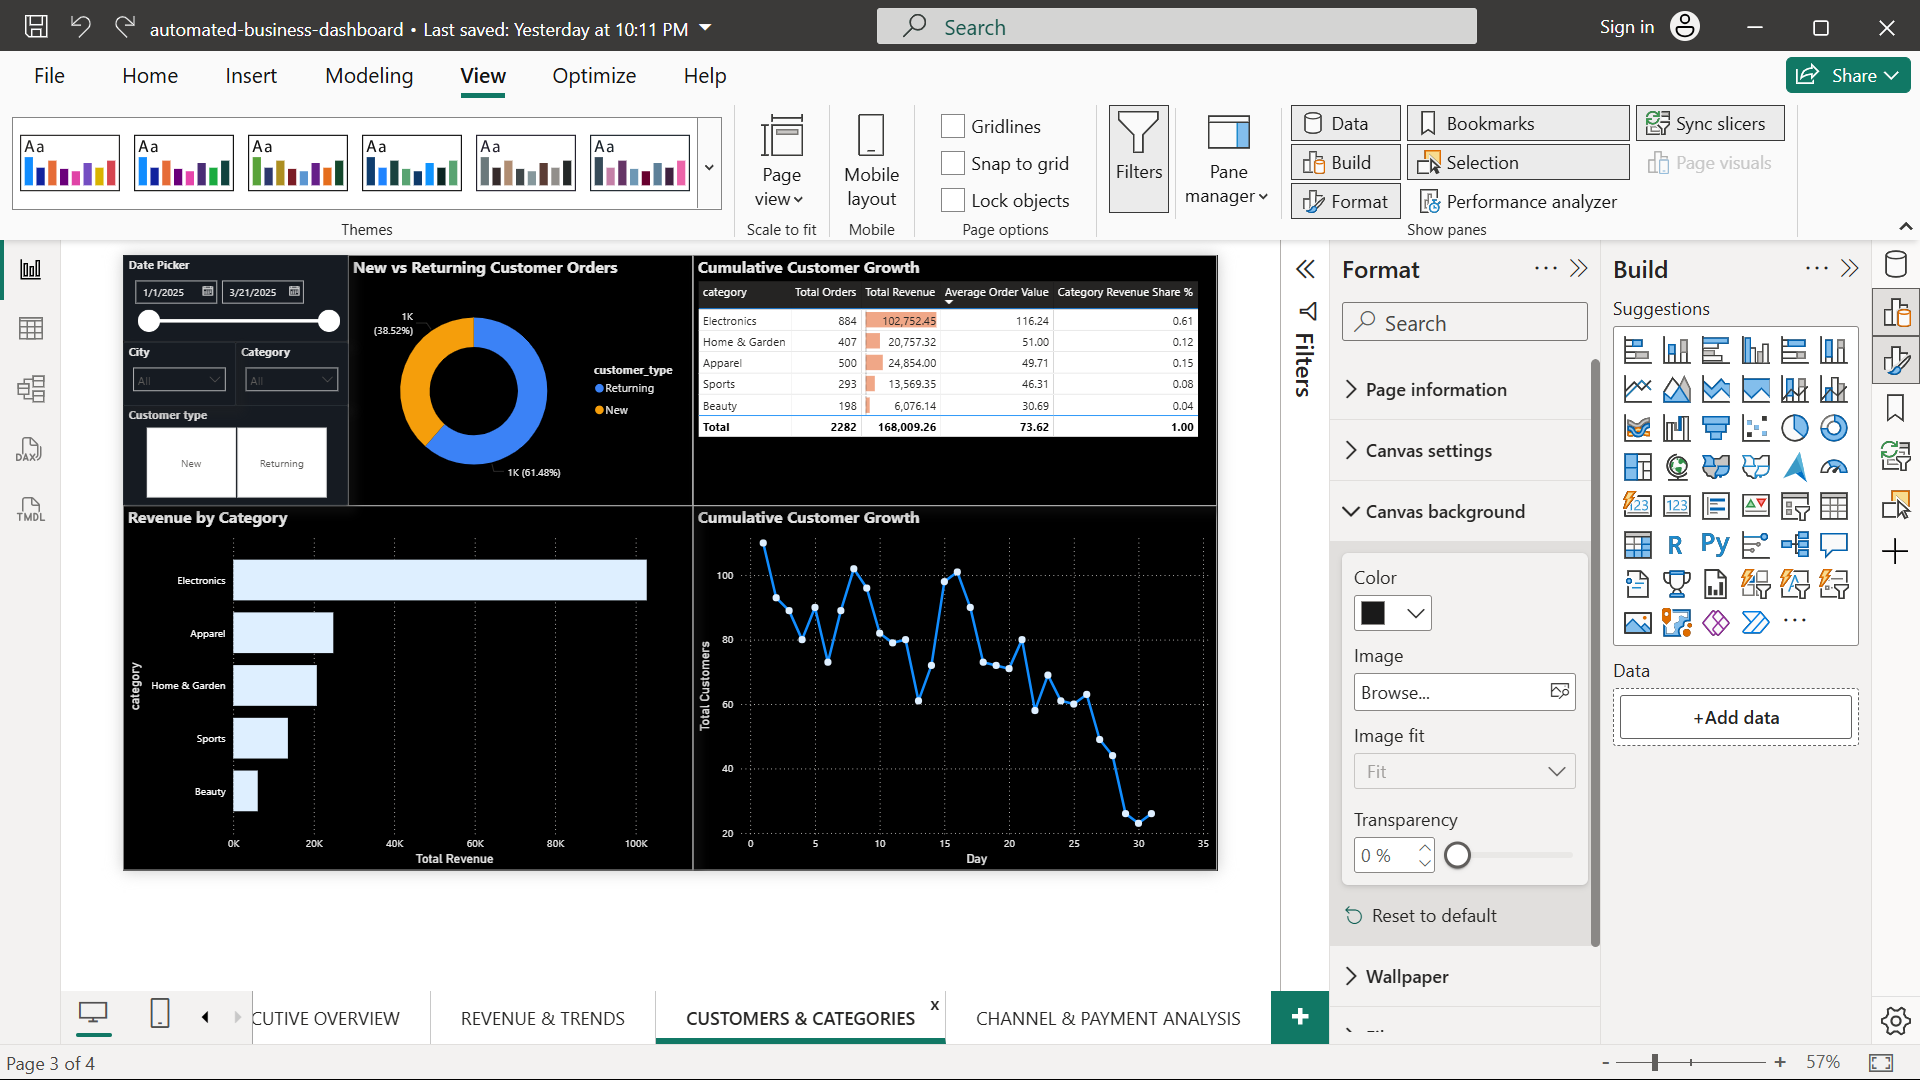

This screenshot's page, from the dashboard's own definition file:
{"tool":"powerbi","page":{"name":"CUSTOMERS & CATEGORIES ","canvas":[1280,720],"ordinal":2},"visuals":[{"type":"donutChart","title":"New vs Returning Customer Orders","fields":{"Category":["ecommerce_data.customer_type"],"Y":["Calendar.Total Orders"]},"box":[263.5,0,403.2,293.7],"z":0},{"type":"lineChart","title":"Cumulative Customer Growth","fields":{"Category":["Calendar.Date.Variation.Date Hierarchy.Month","Calendar.Date.Variation.Date Hierarchy.Day"],"Y":["Calendar.Total Customers"]},"box":[666.7,293.7,612.7,427],"z":1000},{"type":"clusteredBarChart","title":"Revenue by Category","fields":{"Category":["ecommerce_data.category"],"Y":["Calendar.Total Revenue"]},"box":[0,293.7,666.7,427],"z":2000},{"type":"tableEx","title":"Cumulative Customer Growth","fields":{"Values":["ecommerce_data.category","Calendar.Total Orders","Calendar.Total Revenue","Calendar.Average Order Value","Calendar.Category Revenue Share %"]},"box":[666.7,0,612.7,293.7],"z":3000},{"type":"slicer","title":"Date Picker","fields":{"Values":["Calendar.Date"]},"box":[0,0,263.5,101.6],"z":4000},{"type":"slicer","title":"Category","fields":{"Values":["ecommerce_data.category"]},"box":[131.7,101.6,131.7,74.6],"z":5000},{"type":"slicer","title":"Customer type","fields":{"Values":["ecommerce_data.customer_type"]},"box":[0,176.2,263.5,117.5],"z":6000},{"type":"slicer","title":"City","fields":{"Values":["ecommerce_data.city"]},"box":[0,101.6,131.7,74.6],"z":7000}]}

Visuals, with their boxes on the page's 1280x720 design canvas (x1, y1, x2, y2). These are canvas units, not pixel positions in the 1920x1080 screenshot, which may show the page scaled, cropped or inside an application window:
"New vs Returning Customer Orders" donutChart: 264,0,667,294
"Cumulative Customer Growth" lineChart: 667,294,1279,721
"Revenue by Category" clusteredBarChart: 0,294,667,721
"Cumulative Customer Growth" tableEx: 667,0,1279,294
"Date Picker" slicer: 0,0,264,102
"Category" slicer: 132,102,263,176
"Customer type" slicer: 0,176,264,294
"City" slicer: 0,102,132,176
